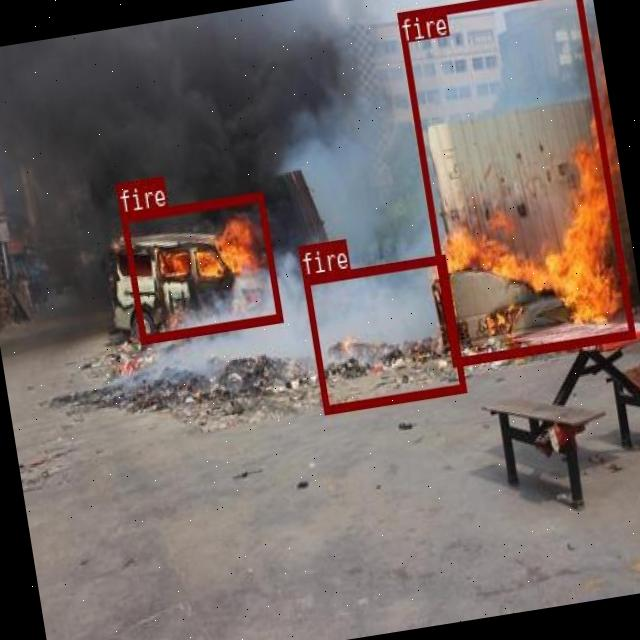fire: (396, 0, 634, 365), (303, 252, 466, 413), (120, 192, 283, 344)
